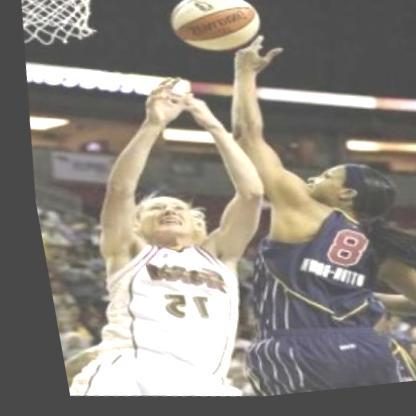basketball: (154, 0, 270, 68)
